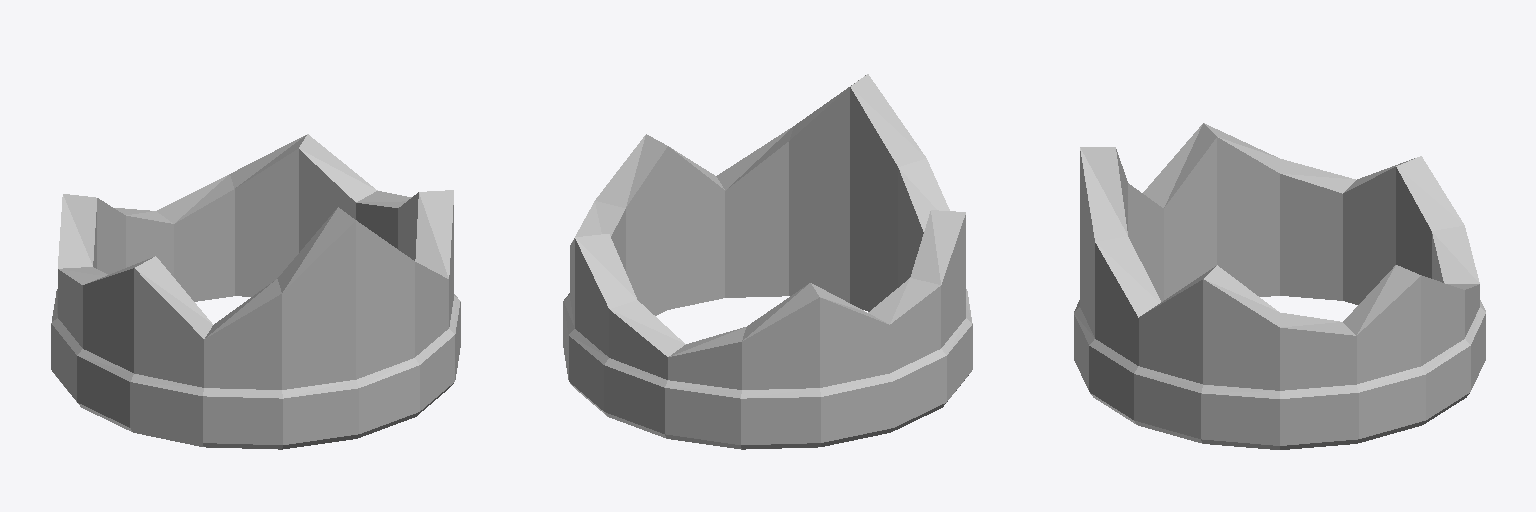
Rendered from Crown.obj.
3 views of the same model, side by side, from view 1: azimuth 30°, elevation 25°; view 2: azimuth 150°, elevation 25°; view 3: azimuth 270°, elevation 25° (orthographic).
Visible parts, largest first — view 1: Cylinder.006; view 2: Cylinder.006; view 3: Cylinder.006.
Part boxes in pixels (x1,y1,x2,y2): Cylinder.006: (51,134,460,449); Cylinder.006: (563,74,972,449); Cylinder.006: (1074,123,1485,449).
Size of the model in its own units: 0.3229 by 0.1884 by 0.3229.